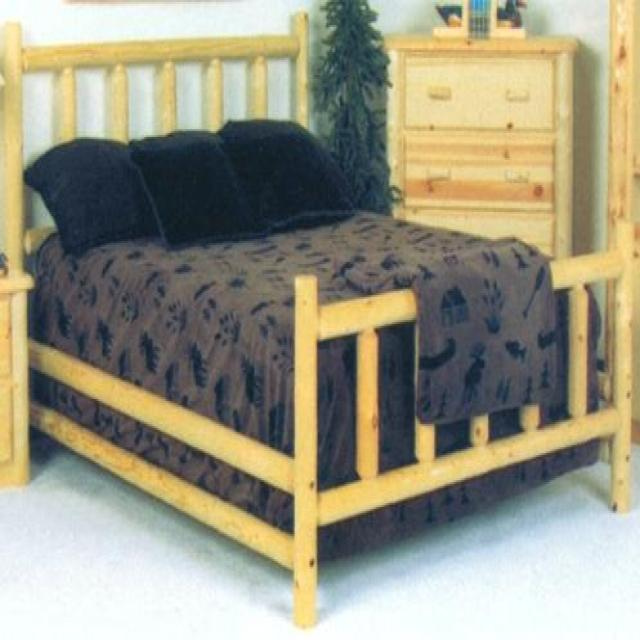bed: (0, 9, 635, 628)
